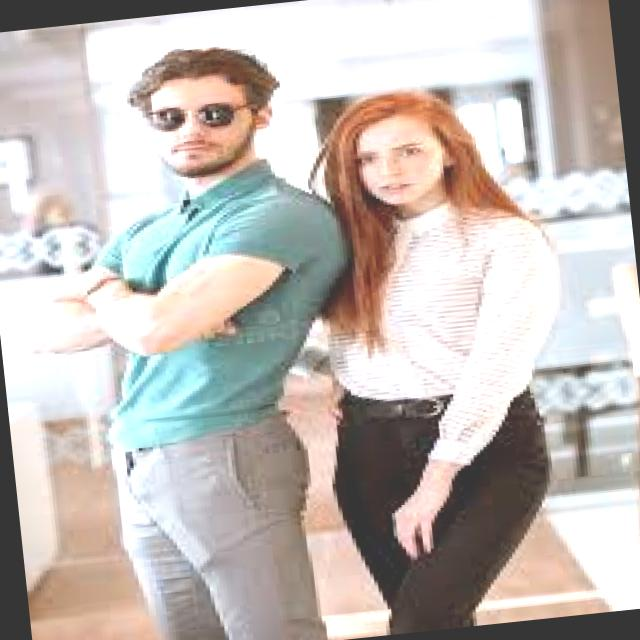face: (149, 76, 268, 182), (356, 115, 452, 216)
lower-wear: (334, 391, 548, 634), (114, 415, 326, 639)
top-wear: (61, 162, 357, 454), (309, 189, 573, 473)
